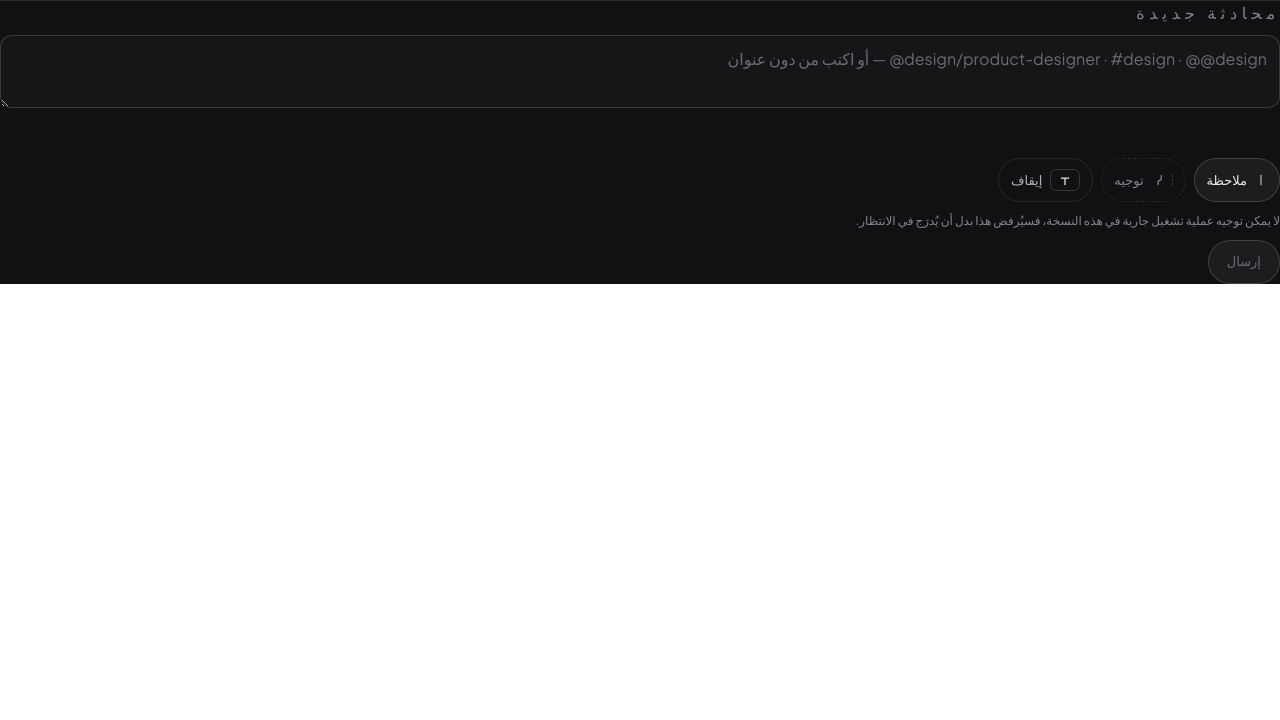
Test case: the fan-out confirm, in Arabic › is dismissable from the keyboard without firing, under dir="rtl"
Replace the text in the text box with "@@sales look" at (640, 72), box [0,35,1279,108]
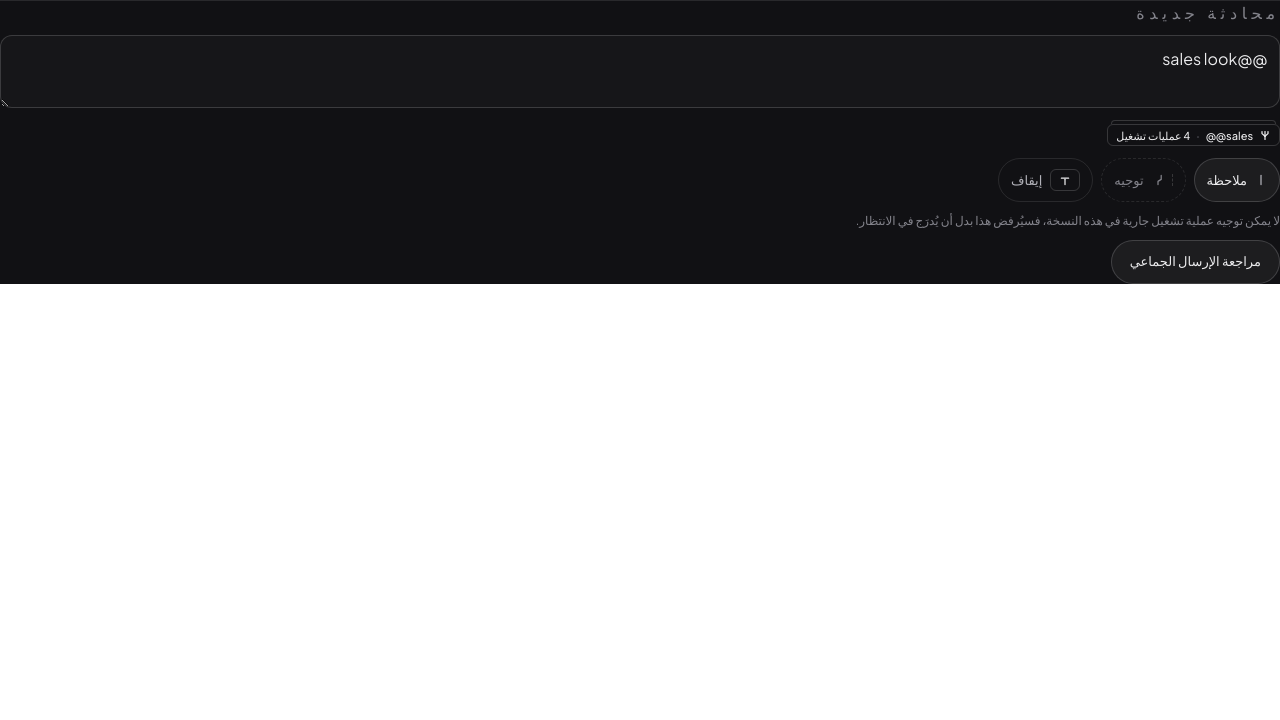
Submit the form, box [0,0,1279,284]
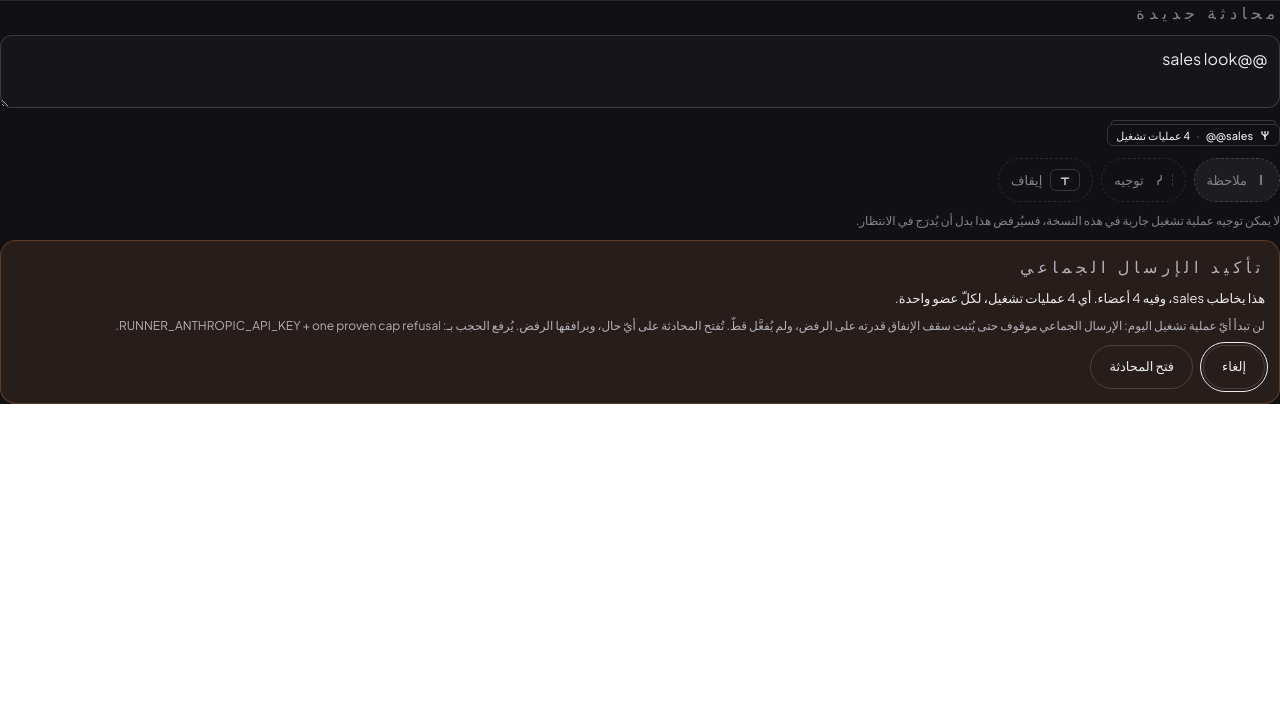
Press Escape in the dialog, box [0,240,1279,404]
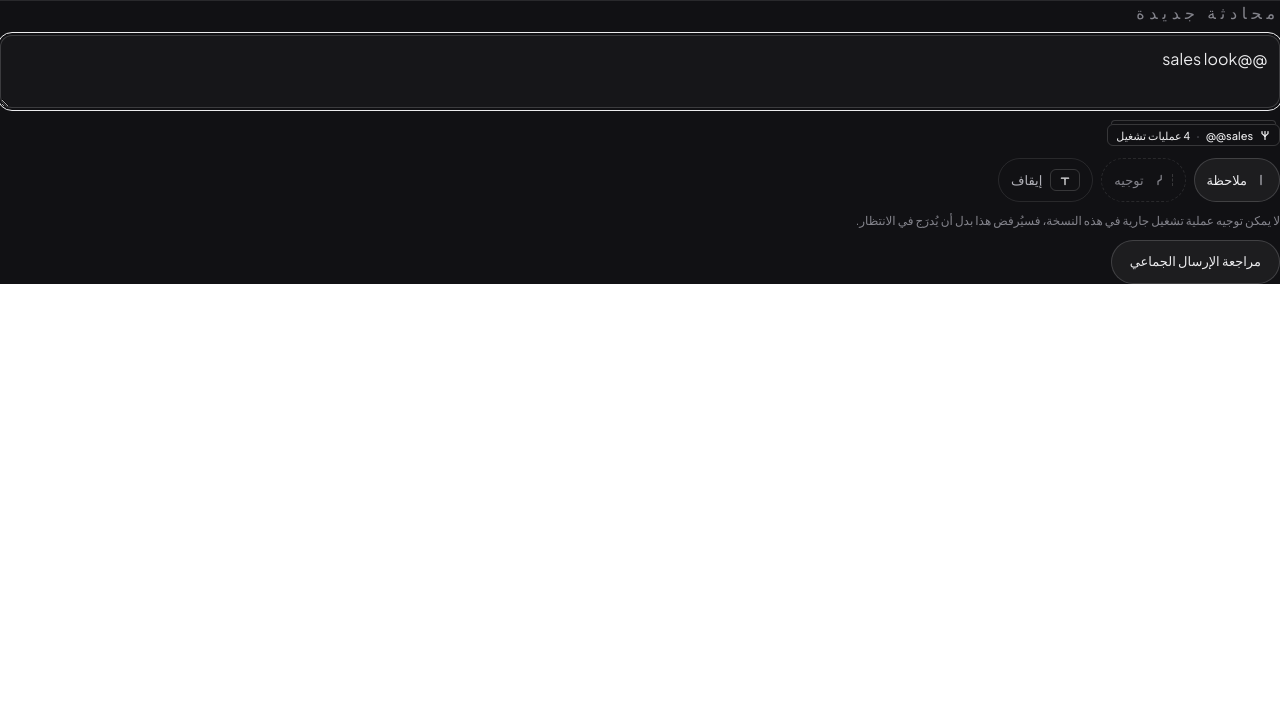
Check: the dialog is gone
